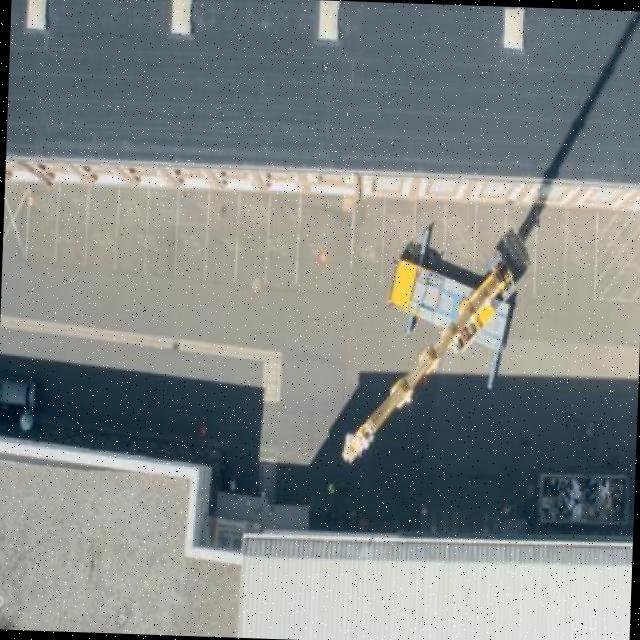Mobile Crane: (340, 225, 512, 470)
